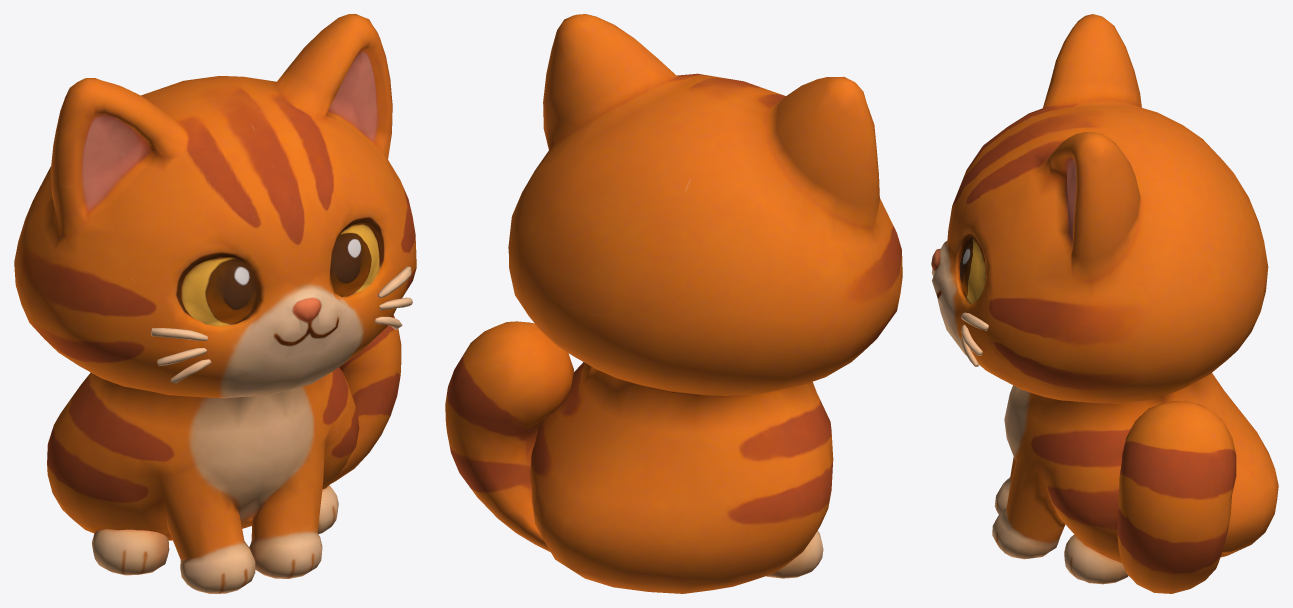
File: cat_orange.glb
3 views of the same model, side by side, from view 1: azimuth 30°, elevation 25°; view 2: azimuth 150°, elevation 25°; view 3: azimuth 270°, elevation 25° (orthographic). The views are drawn at different scales.
Parts seen in each view (by area): view 1: geometry_0; view 2: geometry_0; view 3: geometry_0.
Boxes of the visible parts, x1=… form: geometry_0: x1=14, y1=14, x2=416, y2=593; geometry_0: x1=445, y1=14, x2=902, y2=593; geometry_0: x1=931, y1=14, x2=1278, y2=593.
Bounding box in the file's own units: 0.7881 × 0.9526 × 0.6499.
1 material, 1 textured.
